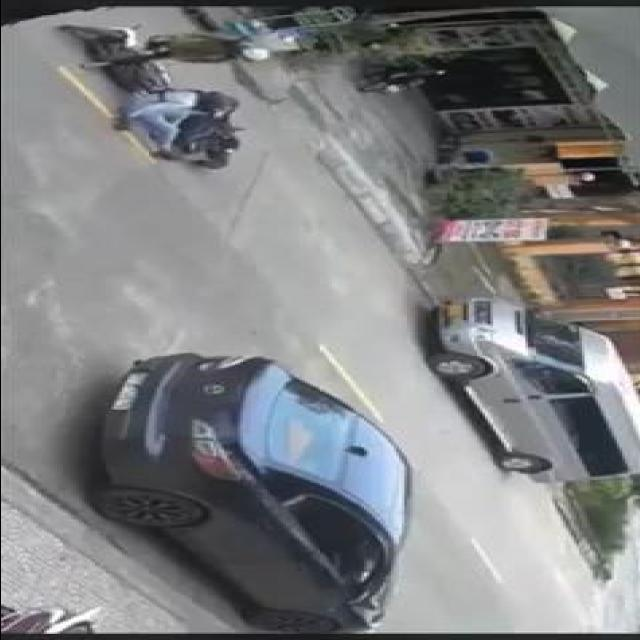accident: (49, 19, 275, 173)
